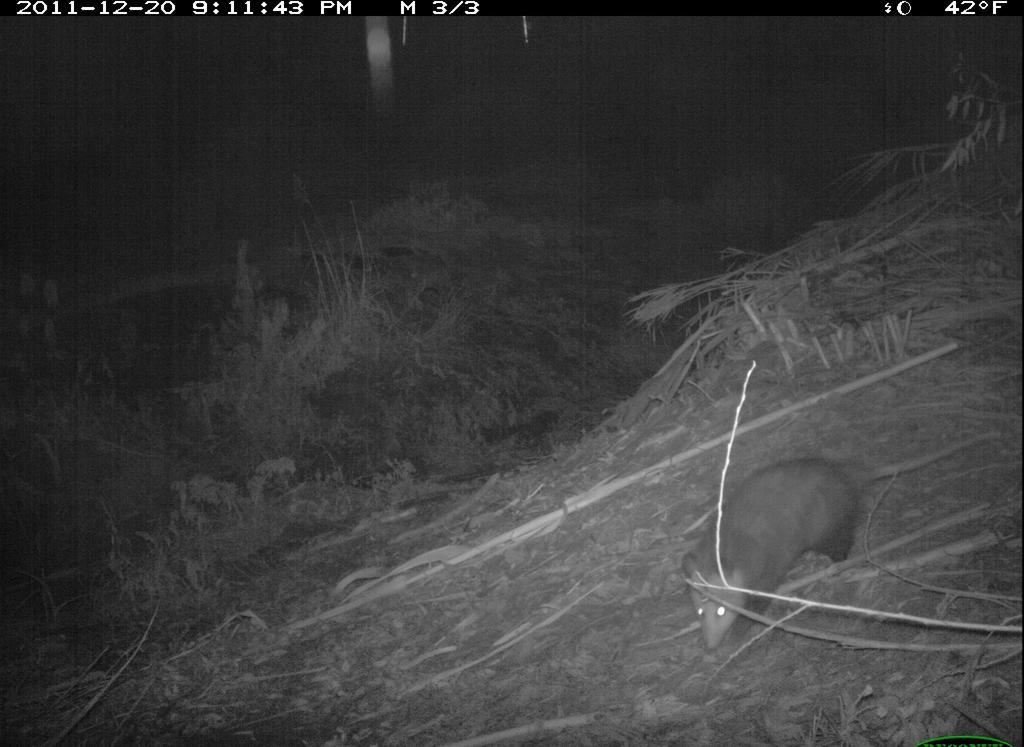opossum: (655, 428, 1004, 648)
